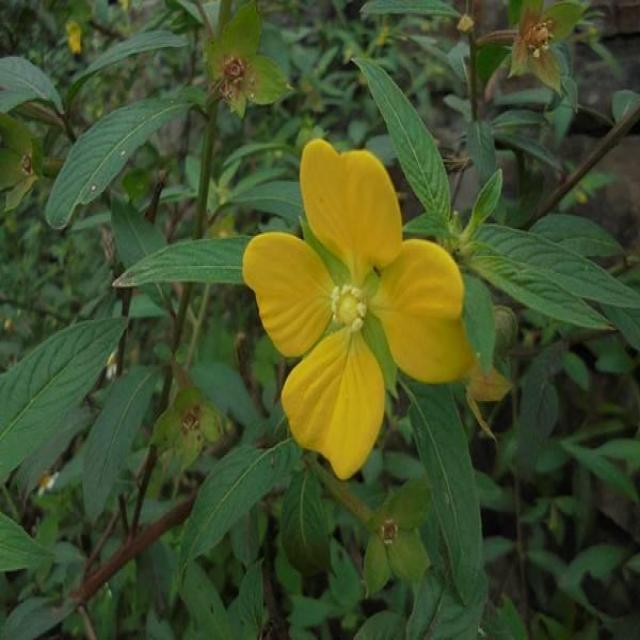organic waste: (241, 130, 473, 480)
